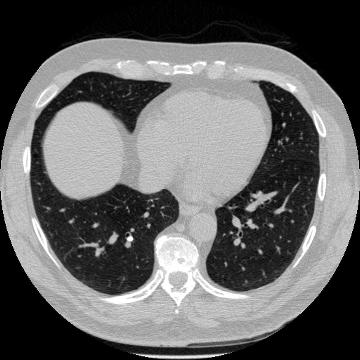nodule: (127, 236, 133, 242)
